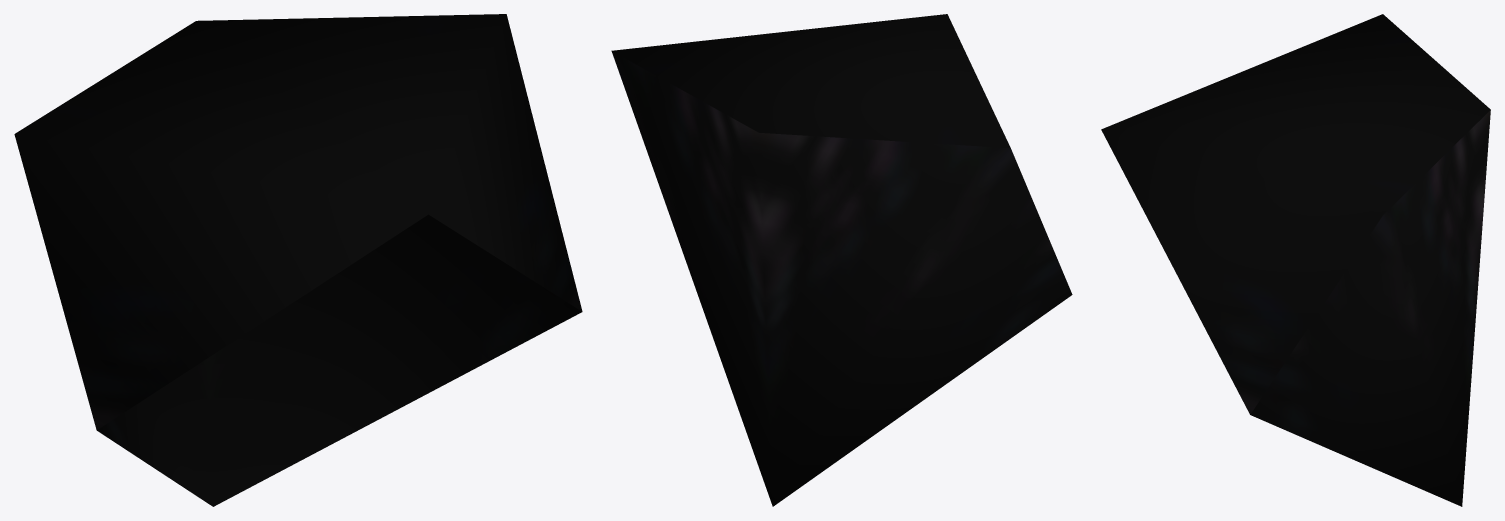
File: hair_nok_m_03.dae
3 renders of one model, left to right at view 1: azimuth 30°, elevation 25°; view 2: azimuth 150°, elevation 25°; view 3: azimuth 270°, elevation 25°, orthographic. The views are drawn at different scales.
Visible parts, largest first — view 1: hair_nok_m_03; view 2: hair_nok_m_03; view 3: hair_nok_m_03.
Boxes of the visible parts, x1,y1,x2,y2 form: hair_nok_m_03: [14, 14, 582, 506]; hair_nok_m_03: [611, 14, 1072, 506]; hair_nok_m_03: [1101, 14, 1490, 506].
Size of the model in its own units: 0.2971 by 0.2428 by 0.2731.
Materials: 1 (1 with a texture image).
